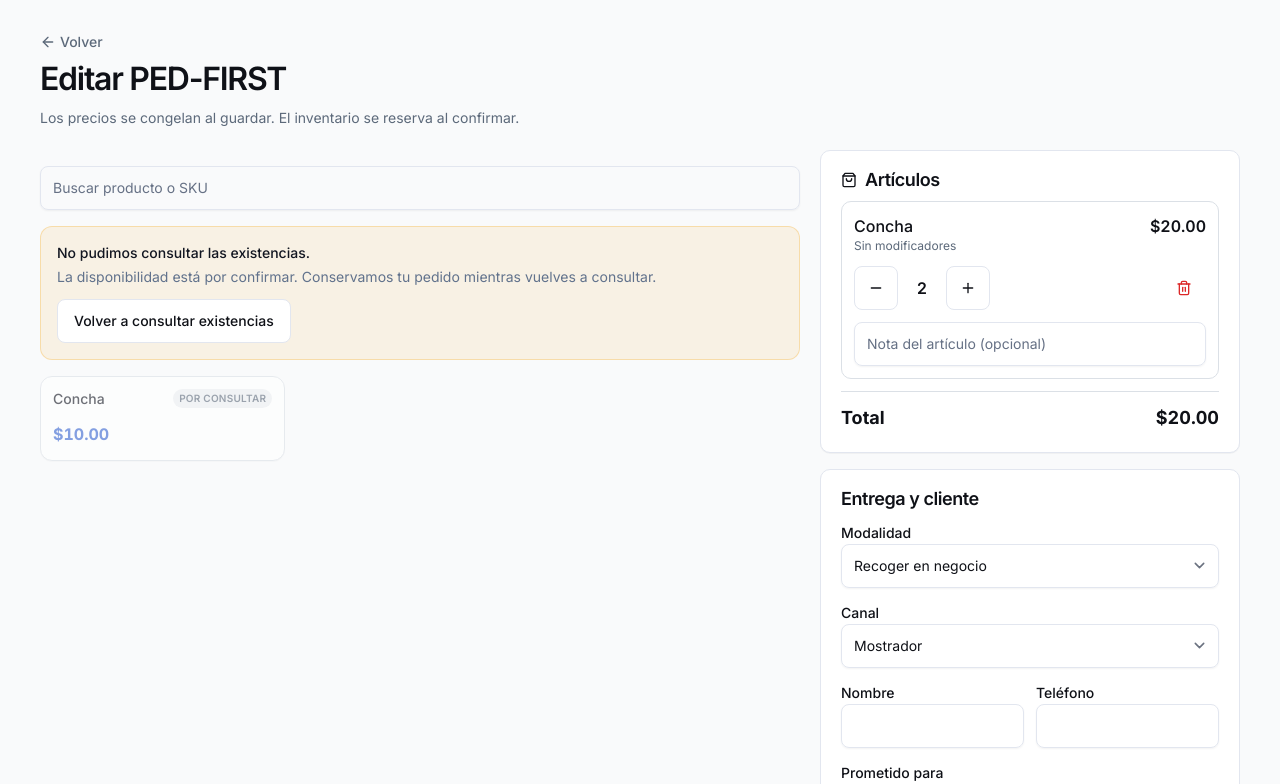
it: customer order draft safety › preserves own reservations when retrying stock for an existing order
Click the button "Volver a consultar existencias" at (174, 321), box [57,299,291,343]
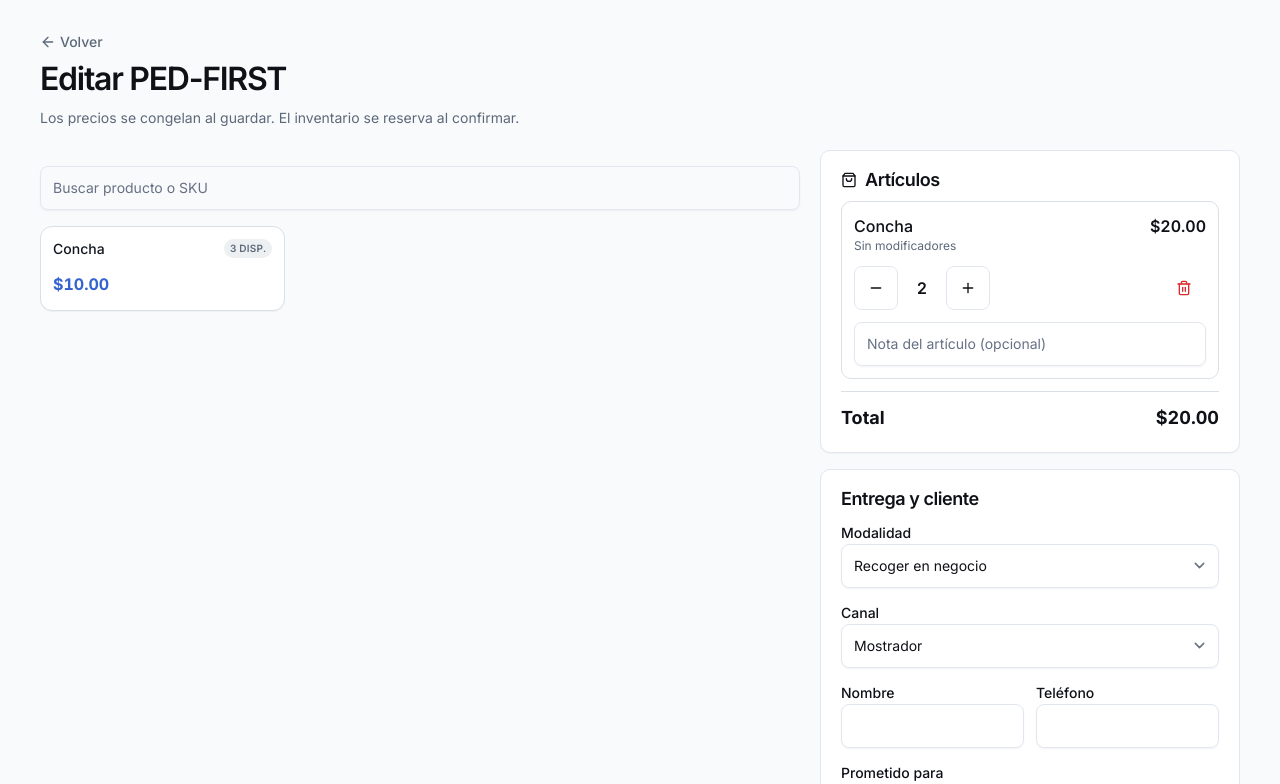
Expected: the text "3 disp." is shown, [224,239,272,258]
